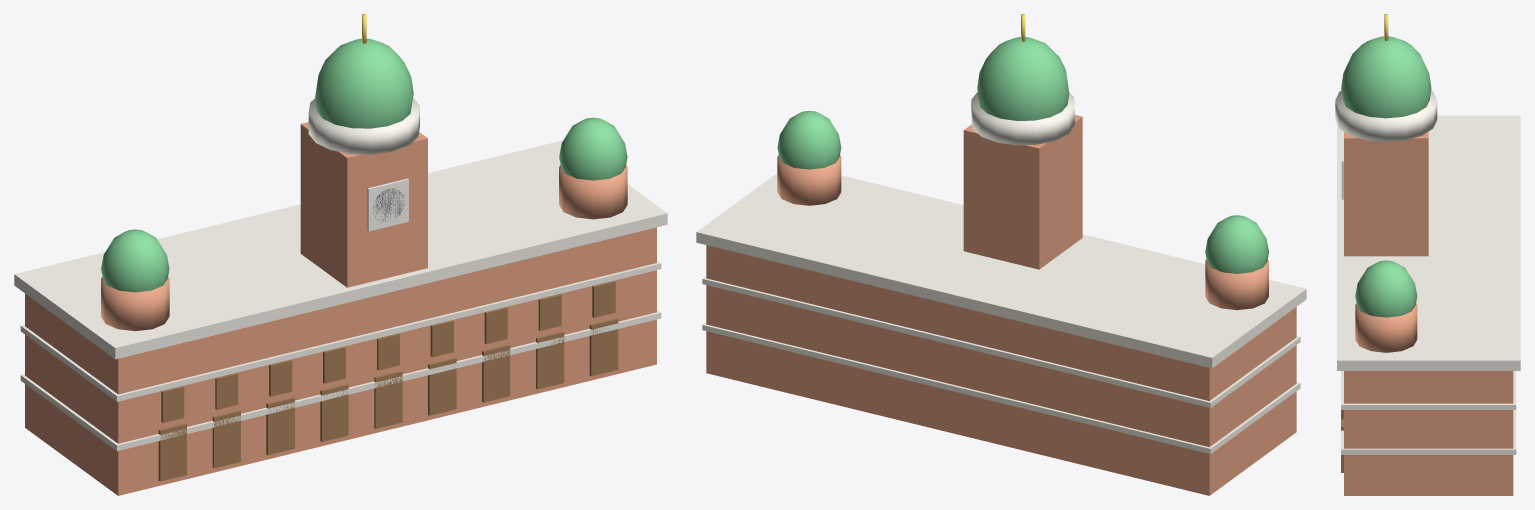
Rendered from Bld_SultanAbdulSamad.fbx.
3 views of the same model, side by side, from view 1: azimuth 30°, elevation 25°; view 2: azimuth 150°, elevation 25°; view 3: azimuth 270°, elevation 25° (orthographic). The views are drawn at different scales.
Parts seen in each view (by area): view 1: Bld_SultanAbdulSamad; view 2: Bld_SultanAbdulSamad; view 3: Bld_SultanAbdulSamad.
Boxes of the visible parts, x1,y1,x2,y2 form: Bld_SultanAbdulSamad: [14, 14, 667, 495]; Bld_SultanAbdulSamad: [696, 14, 1306, 495]; Bld_SultanAbdulSamad: [1335, 14, 1520, 495].
Size of the model in its own units: 41 by 28.25 by 13.1.
